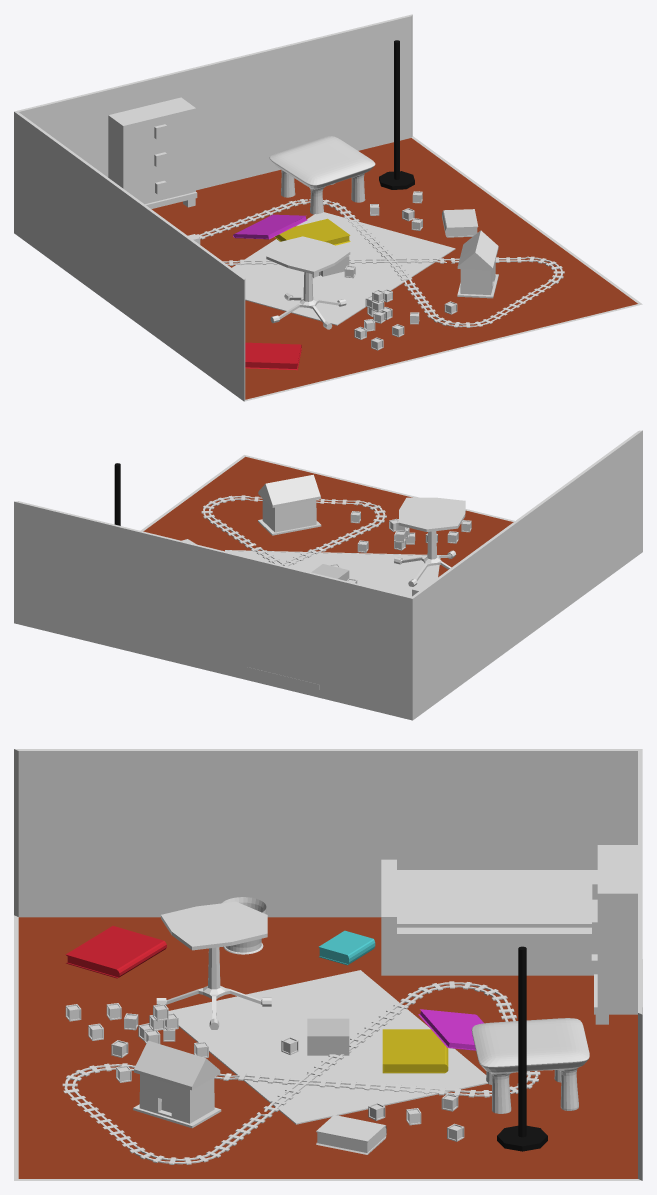
File: rooom1.fbx
3 renders of one model, top to bottom at view 1: azimuth 30°, elevation 25°; view 2: azimuth 150°, elevation 25°; view 3: azimuth 270°, elevation 25°, orthographic. The views are drawn at different scales.
Parts seen in each view (by area): view 1: Plane, Cube.009, Plane.002, Cube.005, Cube.006, tracks.007, Cylinder, Cube.025, Cube.001, Cube.000, Cylinder.001, Cube.010 (+3 smaller); view 2: Plane, Cube.009, Plane.002, Cube.001, Cylinder, tracks.007, Cube.025, Cube.005, Cylinder.001; view 3: Plane, Cube.009, Plane.002, Cube.008, Cube.007, Cube.005, tracks.007, Cube.006, Cube.001, Cylinder, Cube.025, Cube.000 (+8 smaller).
Part boxes in pixels (x1,y1,x2,y2): Plane: (14, 14, 642, 401); Cube.009: (151, 138, 637, 399); Plane.002: (233, 213, 451, 323); Cube.005: (108, 97, 197, 208); Cube.006: (269, 136, 375, 214); tracks.007: (196, 199, 564, 327); Cylinder: (266, 236, 350, 329); Cube.025: (312, 191, 457, 350); Cube.001: (457, 230, 498, 298); Cube.000: (245, 342, 301, 370); Cylinder.001: (379, 40, 414, 189); Cube.010: (274, 218, 350, 245); Plane: (14, 430, 642, 720); Cube.009: (143, 456, 513, 577); Plane.002: (227, 551, 436, 596); Cube.001: (258, 474, 321, 535); Cylinder: (394, 497, 465, 586); tracks.007: (201, 495, 386, 566); Cube.025: (329, 511, 471, 583); Cube.005: (247, 667, 319, 689); Cylinder.001: (114, 463, 120, 525); Plane: (14, 749, 642, 1180); Cube.009: (18, 917, 637, 1178); Plane.002: (168, 972, 486, 1121); Cube.008: (397, 870, 597, 927); Cube.007: (381, 859, 597, 975); Cube.005: (591, 845, 642, 1024); tracks.007: (62, 981, 540, 1164); Cube.006: (471, 1018, 589, 1113); Cube.001: (133, 1040, 221, 1128); Cylinder: (156, 901, 271, 1029); Cube.025: (65, 1003, 464, 1141); Cube.000: (65, 926, 166, 978).
Bounding box in the file's own units: 3000 × 1107 × 3001.
